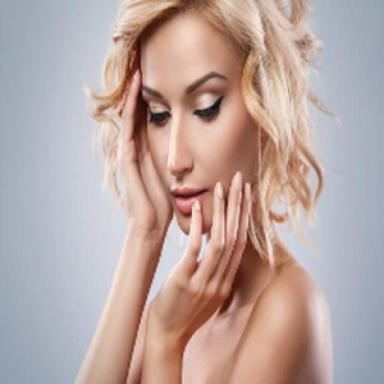normal skin: (77, 11, 330, 384)
